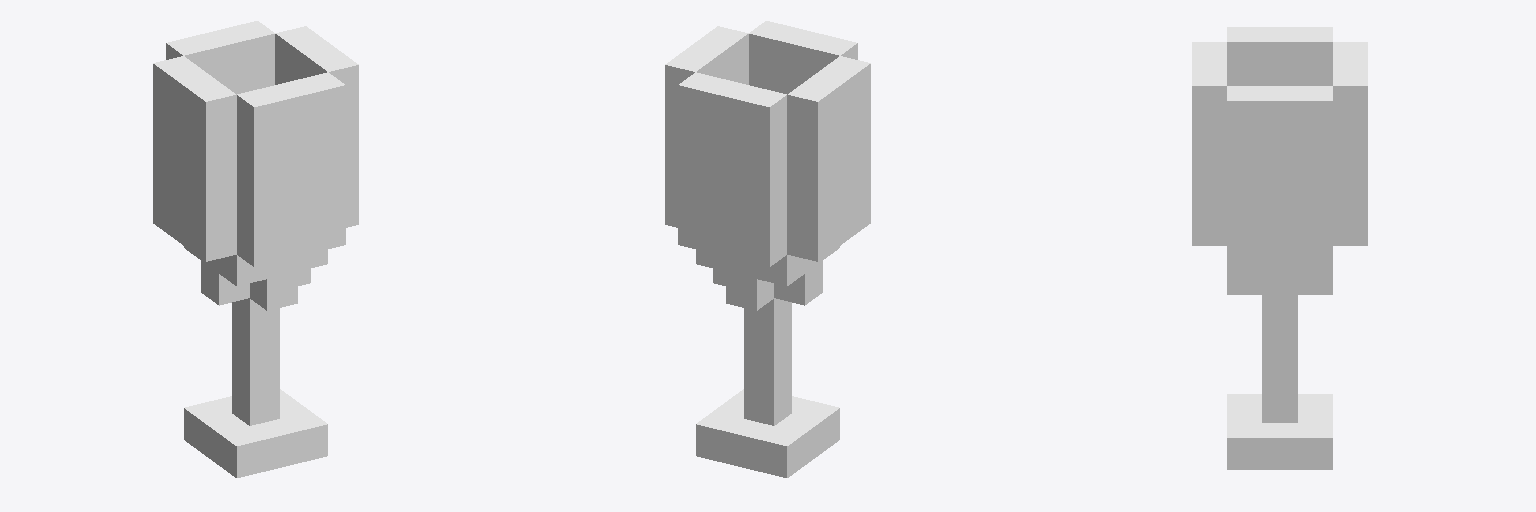
File: Verre(Well-Worn).obj
The picture shows the model from 3 angles: view 1: azimuth 30°, elevation 25°; view 2: azimuth 150°, elevation 25°; view 3: azimuth 270°, elevation 25°; orthographic projection.
Parts seen in each view (by area): view 1: object 1; view 2: object 1; view 3: object 1.
Part boxes in pixels (left/top/right/bottom): object 1: left=153, top=21, right=358, bottom=477; object 1: left=665, top=21, right=870, bottom=477; object 1: left=1192, top=27, right=1367, bottom=469.
Bounding box in the file's own units: 0.5 × 1.2 × 0.5.